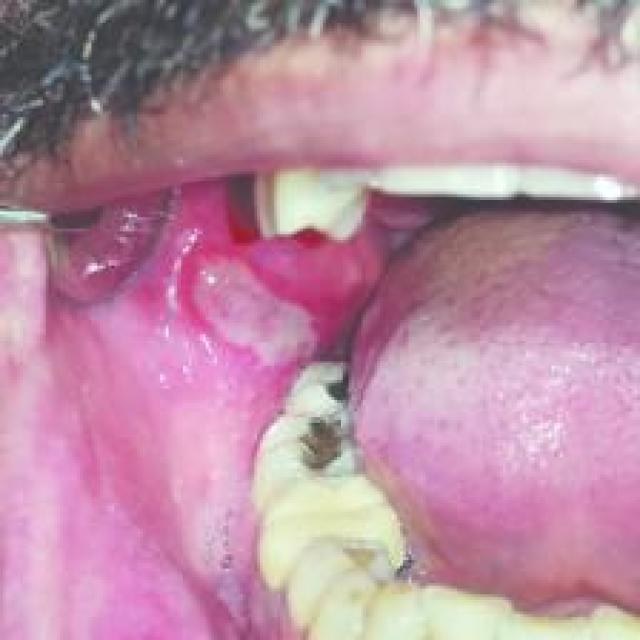processing_area: (2, 179, 637, 637)
ulcer-detection: (170, 230, 334, 376)
